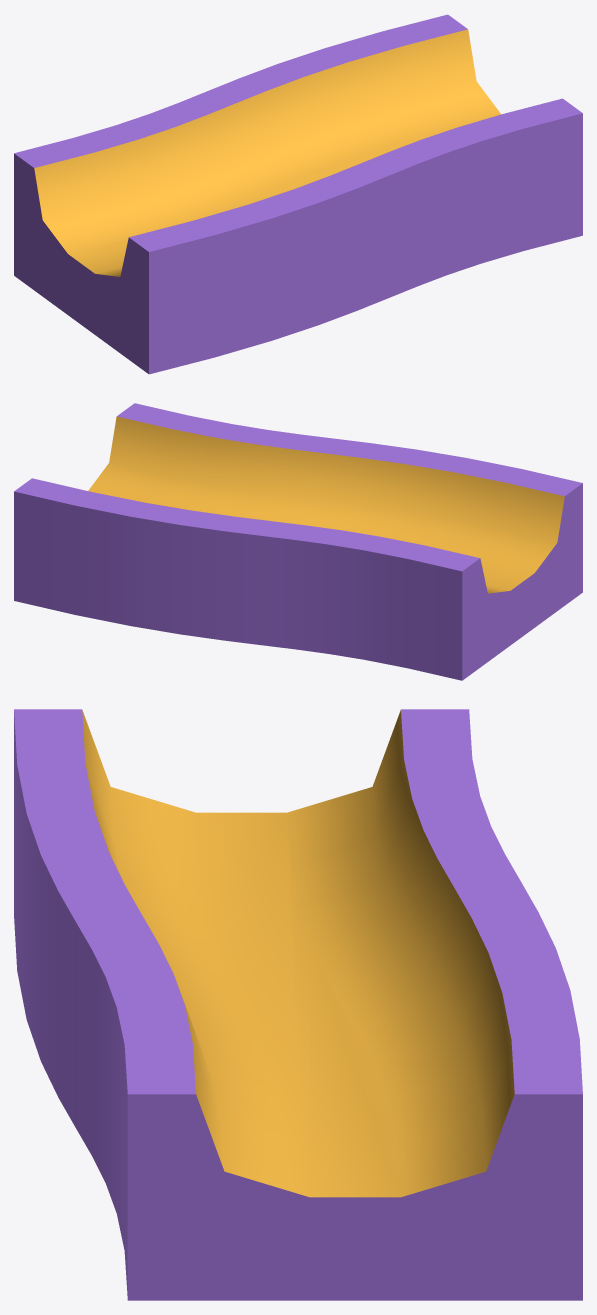
The model's file is s-curve-short-left-a-col.glb.
The picture shows the model from 3 angles, top to bottom: view 1: azimuth 30°, elevation 25°; view 2: azimuth 150°, elevation 25°; view 3: azimuth 270°, elevation 25°; orthographic projection. The views are drawn at different scales.
Parts seen in each view (by area): view 1: s-curve-short-left-a-col; view 2: s-curve-short-left-a-col; view 3: s-curve-short-left-a-col.
Boxes of the visible parts, bbox=[...] form: s-curve-short-left-a-col: bbox=[14, 14, 582, 374]; s-curve-short-left-a-col: bbox=[14, 403, 582, 680]; s-curve-short-left-a-col: bbox=[14, 709, 582, 1300].
Bounding box in the file's own units: 2 × 0.5 × 1.25.
1 material, 1 textured.
